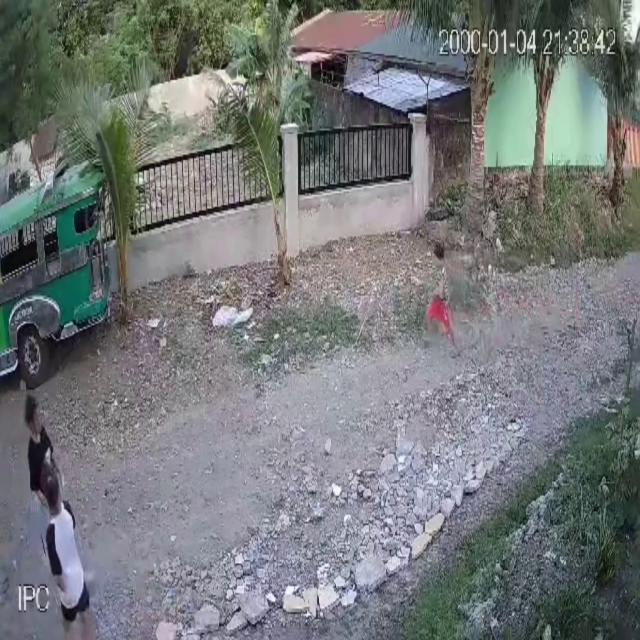running: (418, 236, 462, 364)
walking: (15, 389, 73, 602), (36, 467, 100, 640), (620, 126, 630, 190)
